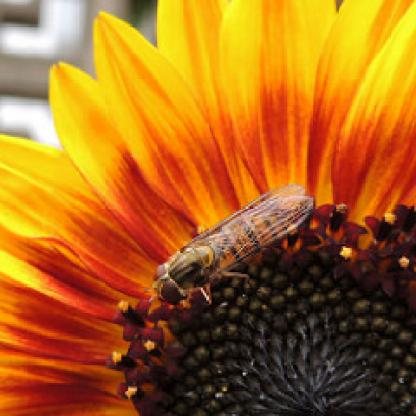SUN FLOWER: (11, 18, 405, 405)
